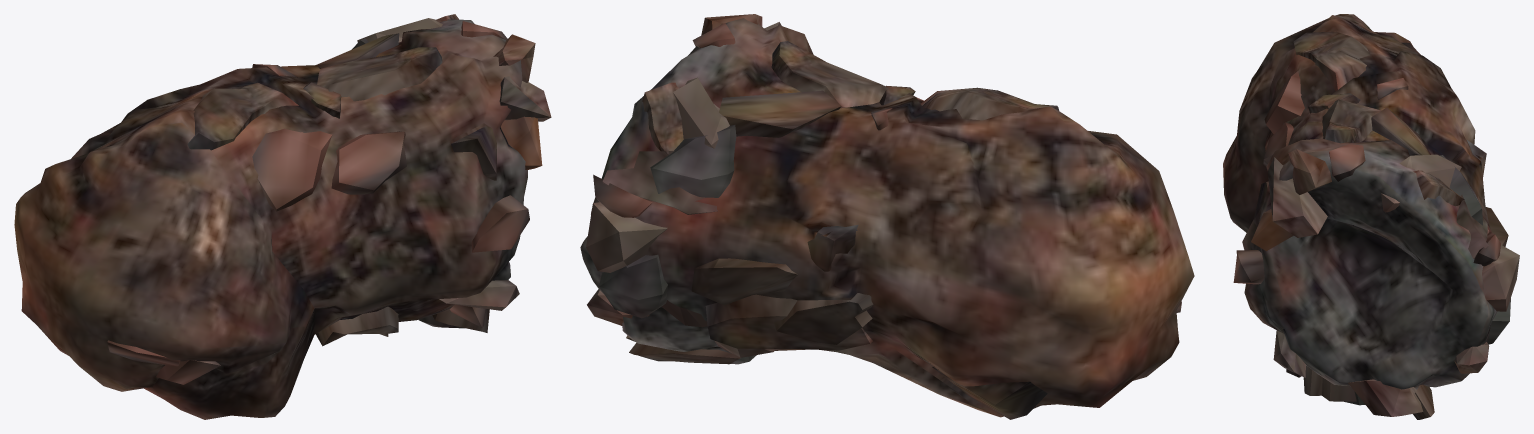
The model's file is weapon-wp_a_1171.glb.
3 views of the same model, side by side, from view 1: azimuth 30°, elevation 25°; view 2: azimuth 150°, elevation 25°; view 3: azimuth 270°, elevation 25° (orthographic). The views are drawn at different scales.
Parts seen in each view (by area): view 1: wp_a_1171_mesh; view 2: wp_a_1171_mesh; view 3: wp_a_1171_mesh.
Part boxes in pixels (box(x1,y1,x2,y2)): wp_a_1171_mesh: box(14, 14, 551, 419); wp_a_1171_mesh: box(580, 14, 1194, 419); wp_a_1171_mesh: box(1223, 14, 1519, 419).
Size of the model in its own units: 0.3705 by 0.2299 by 0.2227.
Materials: 1 (1 with a texture image).
